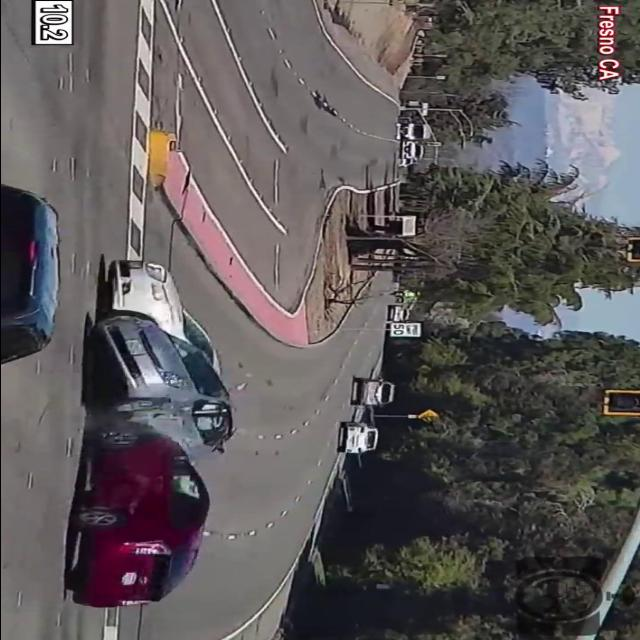accident: (46, 251, 260, 617)
